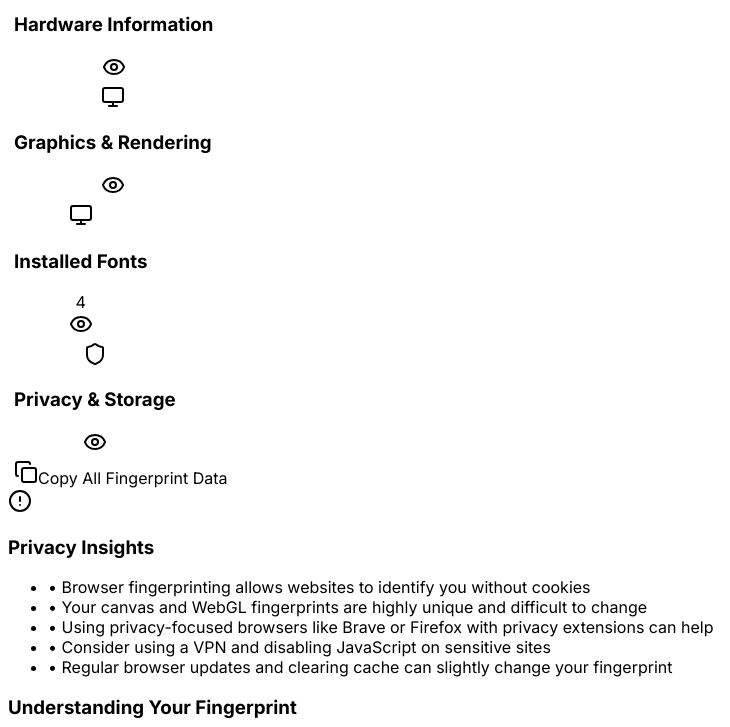
it: Browser Fingerprint Page - Component Tests › should display privacy and storage information
(page scrolled)
Check: the heading "Privacy & Storage" is shown, box [14,388,176,411]
Click the button "Privacy & Storage".
click(95, 400)  # box [8,340,182,459]
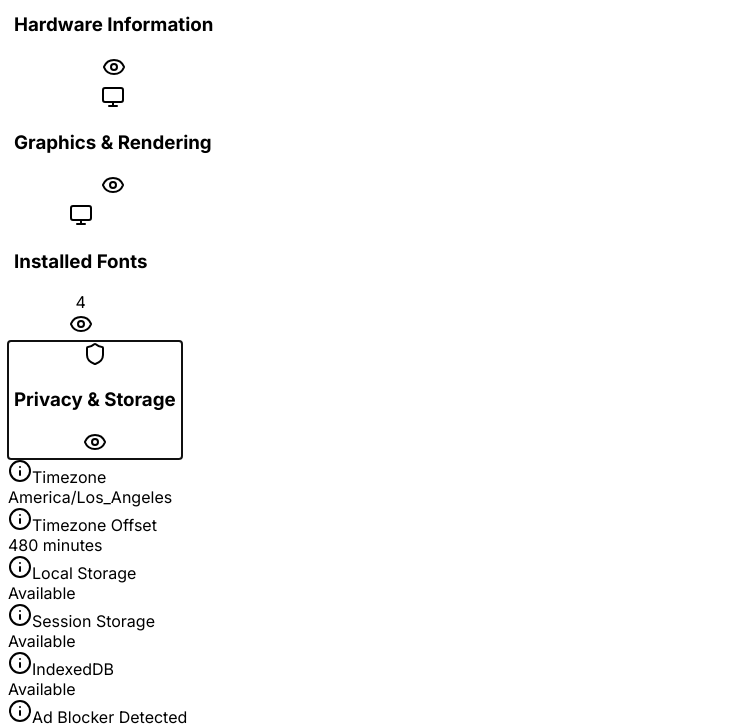
Check: the text "Timezone" is shown, box [32,467,106,487]
Check: the text "America/Los_Angeles" is shown, box [8,487,172,507]
Check: the text "Local Storage" is shown, box [32,563,136,583]
